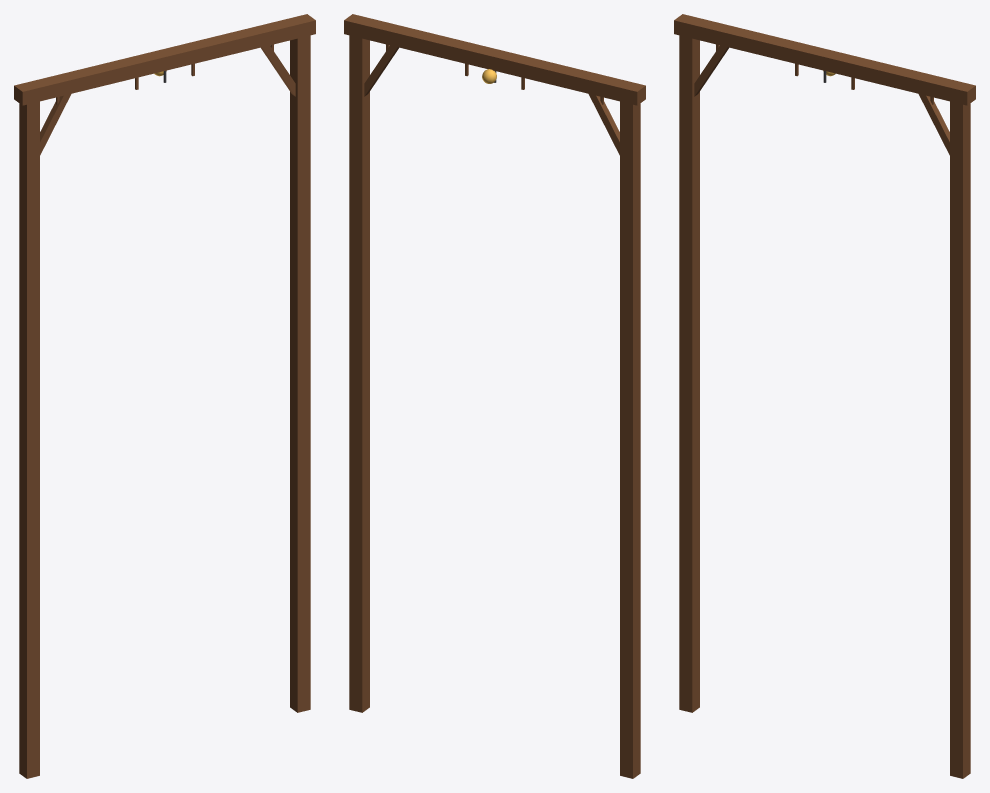
Rendered from MinecartMayhemSign.obj.
3 renders of one model, left to right at view 1: azimuth 30°, elevation 25°; view 2: azimuth 150°, elevation 25°; view 3: azimuth 330°, elevation 25°, orthographic.
Parts seen in each view (by area): view 1: Timber; view 2: Timber; view 3: Timber.
Part boxes in pixels (<box>): Timber: <box>14,14,315,778</box>; Timber: <box>344,14,645,778</box>; Timber: <box>674,14,975,778</box>.
Bounding box in the file's own units: 15.6 × 35 × 1.23.
